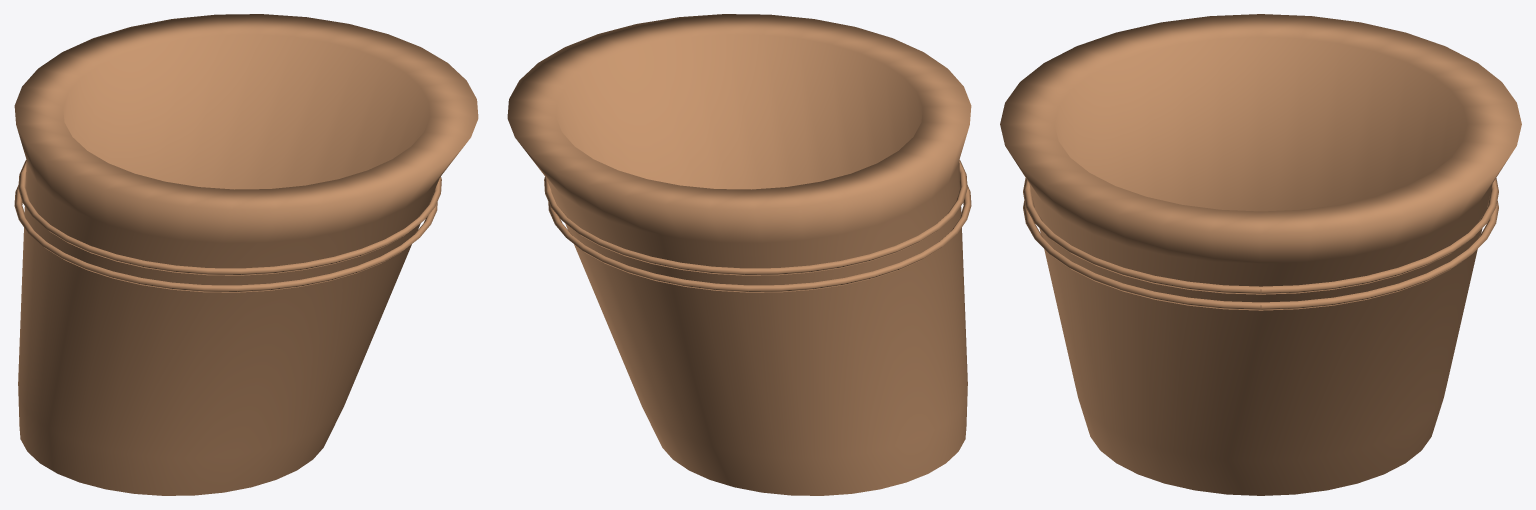
The model's file is cup_player.glb.
The picture shows the model from 3 angles, left to right: view 1: azimuth 30°, elevation 25°; view 2: azimuth 150°, elevation 25°; view 3: azimuth 270°, elevation 25°; orthographic projection. The views are drawn at different scales.
Visible parts, largest first — view 1: cup_player; view 2: cup_player; view 3: cup_player.
Boxes of the visible parts, box(x1,y1,x2,y2) form: cup_player: box(14, 14, 478, 495); cup_player: box(507, 14, 971, 495); cup_player: box(1000, 14, 1521, 495).
Size of the model in its own units: 0.2128 by 0.15 by 0.21.
